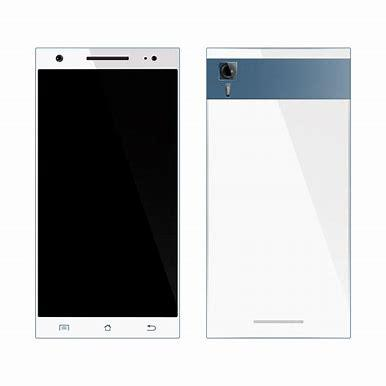Smart Phone: (32, 47, 183, 342)
